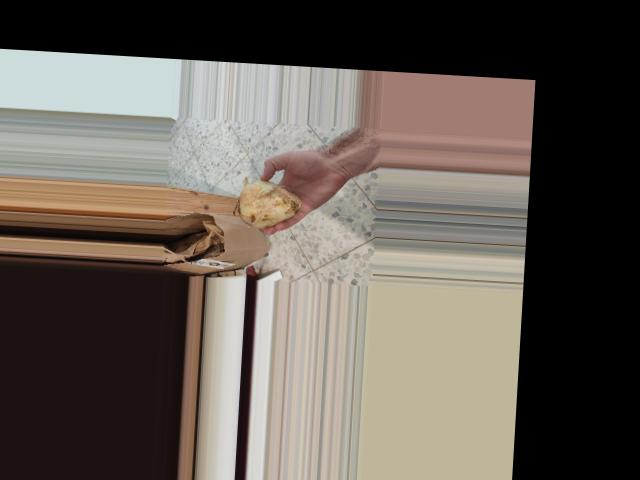onion: (231, 177, 307, 232)
